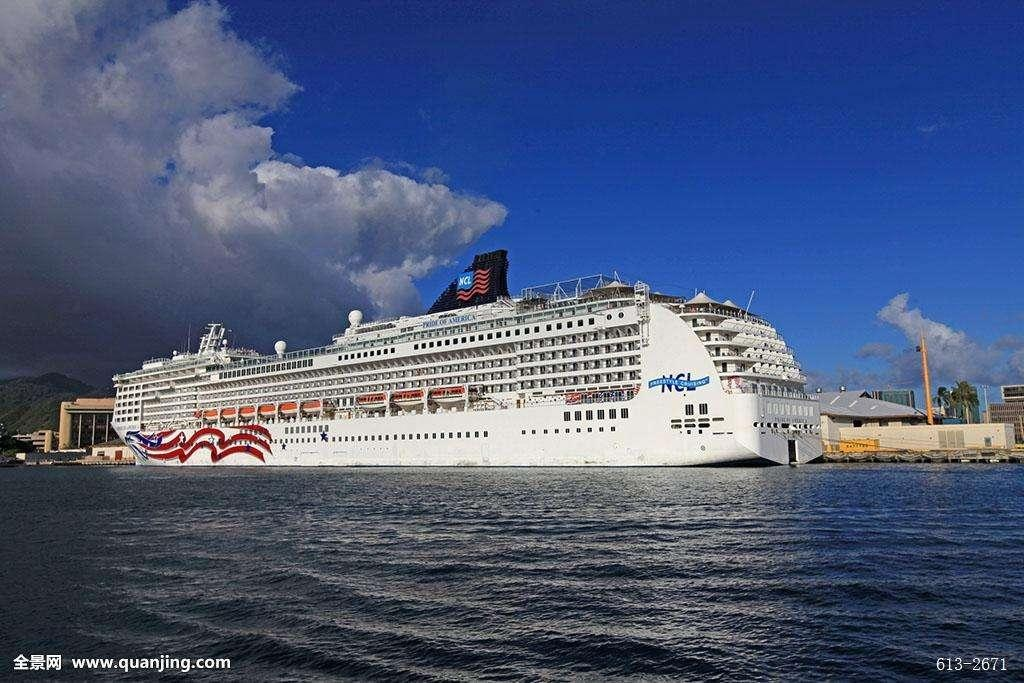youlun: (103, 252, 825, 470)
